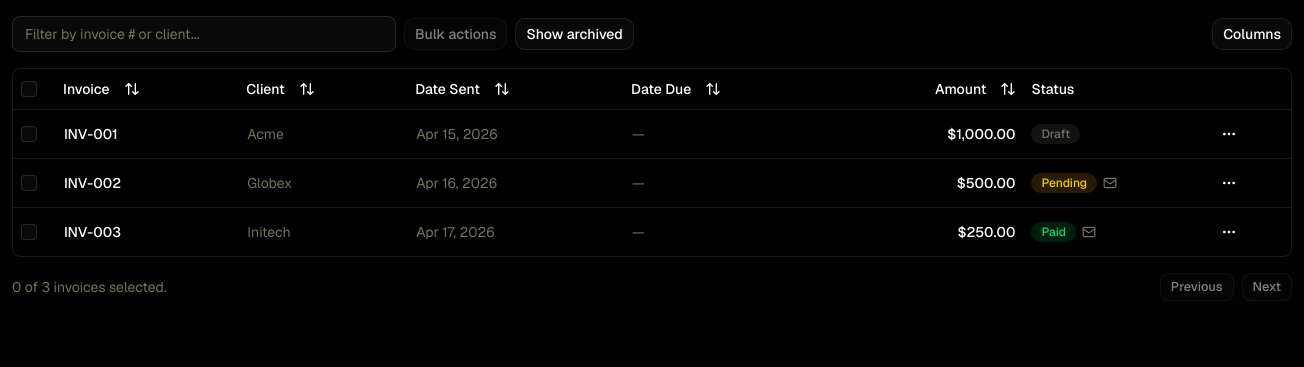
Test case: InvoiceDataTable — archive toggle › reveals archived invoices when toggled
Click the button "Show archived". click: (575, 34)
box: top-left (515, 18), bottom-right (634, 50)
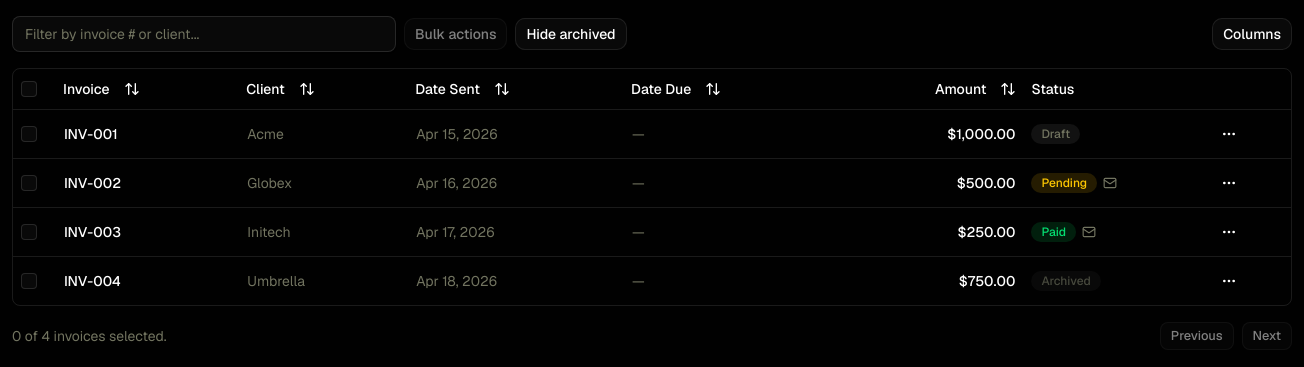
Expected: the text "Umbrella" is shown, top-left (247, 272), bottom-right (305, 290)
